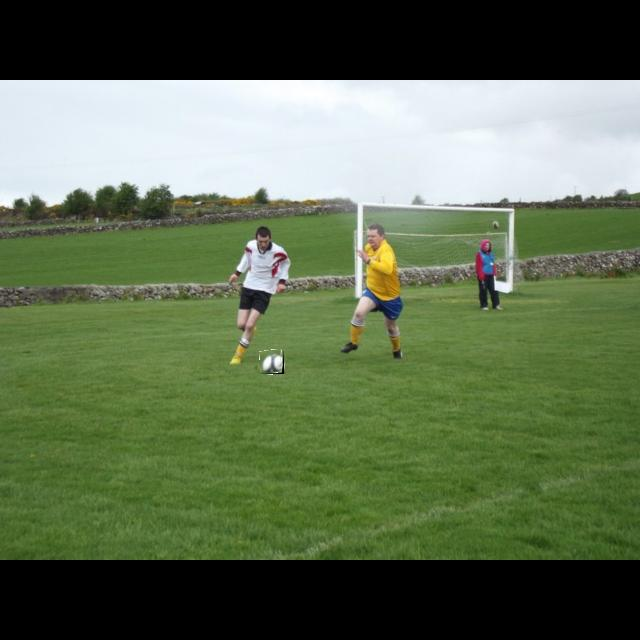Football: (260, 350, 284, 374)
